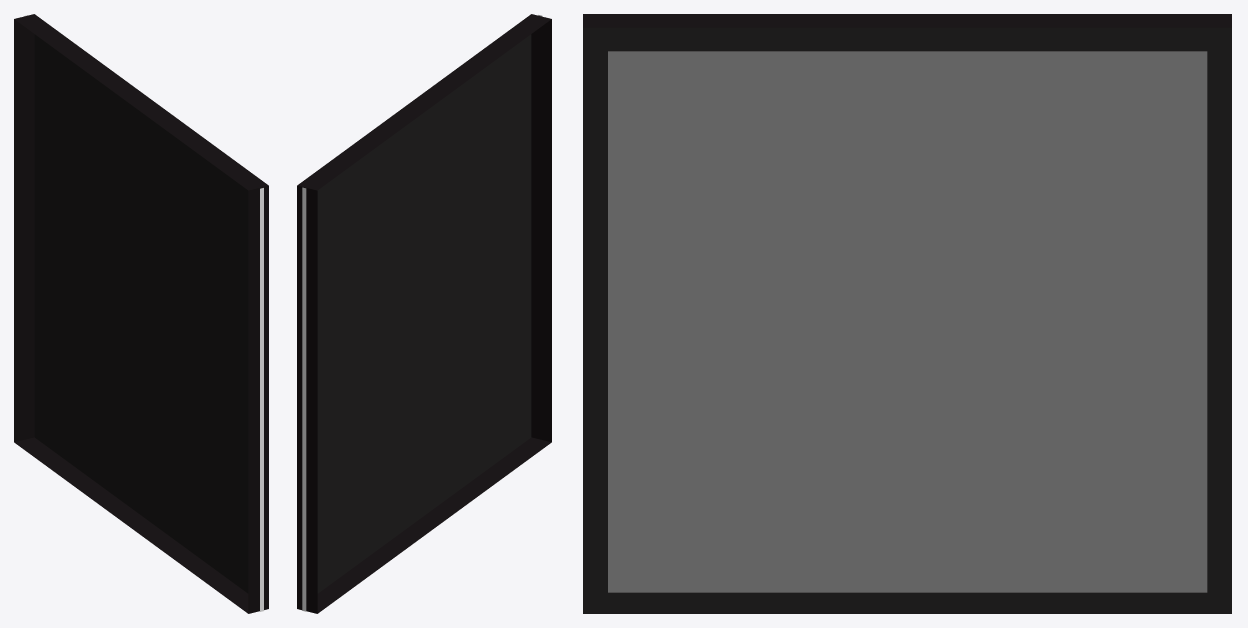
Rendered from M_zhuangshihua03.FBX.
The picture shows the model from 3 angles, left to right: view 1: azimuth 30°, elevation 25°; view 2: azimuth 150°, elevation 25°; view 3: azimuth 270°, elevation 25°; orthographic projection. The views are drawn at different scales.
Visible parts, largest first — view 1: M_zhuangshihua03_01, M_zhuangshihua03_02; view 2: M_zhuangshihua03_01, M_zhuangshihua03_02; view 3: M_zhuangshihua_change, M_zhuangshihua03_01.
Boxes of the visible parts, x1,y1,x2,y2 form: M_zhuangshihua03_01: [14, 14, 268, 613]; M_zhuangshihua03_02: [24, 15, 263, 611]; M_zhuangshihua03_01: [297, 14, 551, 613]; M_zhuangshihua03_02: [302, 15, 542, 611]; M_zhuangshihua_change: [608, 51, 1207, 592]; M_zhuangshihua03_01: [583, 14, 1231, 613].
Size of the model in its own units: 0.0904 by 1.66 by 1.68.
